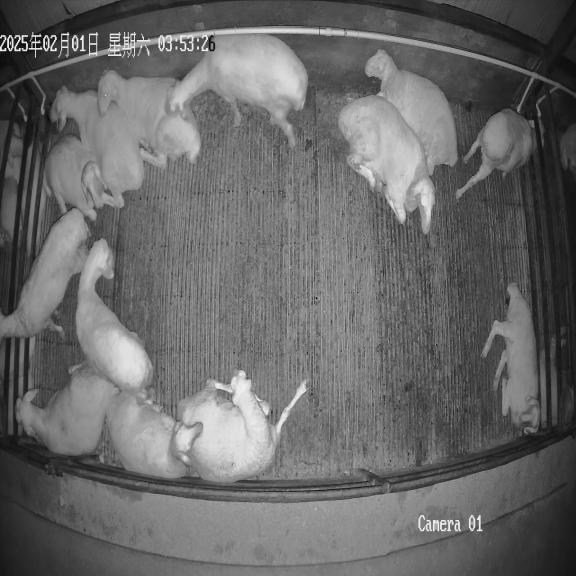lying: (178, 370, 307, 482), (338, 95, 435, 234), (365, 50, 457, 176), (50, 86, 144, 207), (97, 70, 200, 168), (18, 366, 116, 456), (482, 283, 540, 434), (106, 391, 203, 478), (44, 134, 123, 221)
stand: (166, 34, 308, 147), (0, 208, 90, 340), (76, 239, 153, 390), (456, 108, 535, 199)
